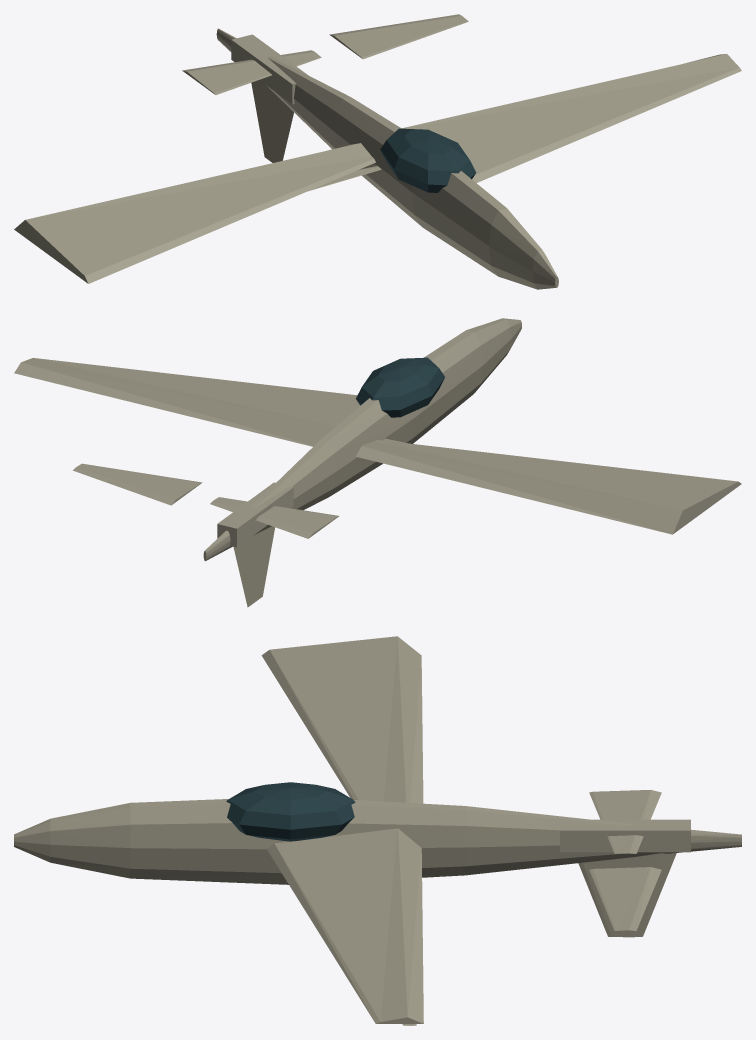
3 renders of one model, top to bottom at view 1: azimuth 30°, elevation 25°; view 2: azimuth 150°, elevation 25°; view 3: azimuth 270°, elevation 25°, orthographic. The views are drawn at different scales.
Visible parts, largest first — view 1: Wing_L, Fuselage, Wing_R, Cockpit, Elevator_R, Elevator_L, Rudder, TailBoom; view 2: Wing_L, Wing_R, Fuselage, Cockpit, Elevator_R, Rudder, TailBoom, Elevator_L; view 3: Fuselage, Wing_R, Wing_L, Cockpit, TailBoom, Elevator_R, Rudder, Elevator_L.
Part boxes in pixels (box(x1,y1,x2,y2)): Wing_L: box(14, 143, 375, 283); Fuselage: box(216, 28, 558, 289); Wing_R: box(402, 54, 741, 182); Cockpit: box(380, 128, 476, 192); Elevator_R: box(329, 14, 468, 59); Elevator_L: box(182, 50, 321, 94); Rudder: box(251, 80, 293, 162); TailBoom: box(231, 34, 308, 104); Wing_L: box(356, 440, 741, 534); Wing_R: box(14, 358, 360, 446); Fuselage: box(203, 318, 521, 561); Cockpit: box(356, 357, 444, 417); Elevator_R: box(73, 463, 202, 505); Rudder: box(233, 526, 274, 607); TailBoom: box(217, 482, 293, 547); Elevator_L: box(210, 497, 339, 538); Fuselage: box(14, 799, 741, 884); Wing_R: box(267, 828, 423, 1023); Wing_L: box(261, 636, 423, 803); Cockpit: box(226, 782, 355, 841); TailBoom: box(560, 819, 690, 852); Elevator_R: box(589, 867, 661, 931); Rudder: box(578, 853, 676, 937); Elevator_L: box(589, 790, 661, 853).
Size of the model in its own units: 13.25 by 2.48 by 11.
